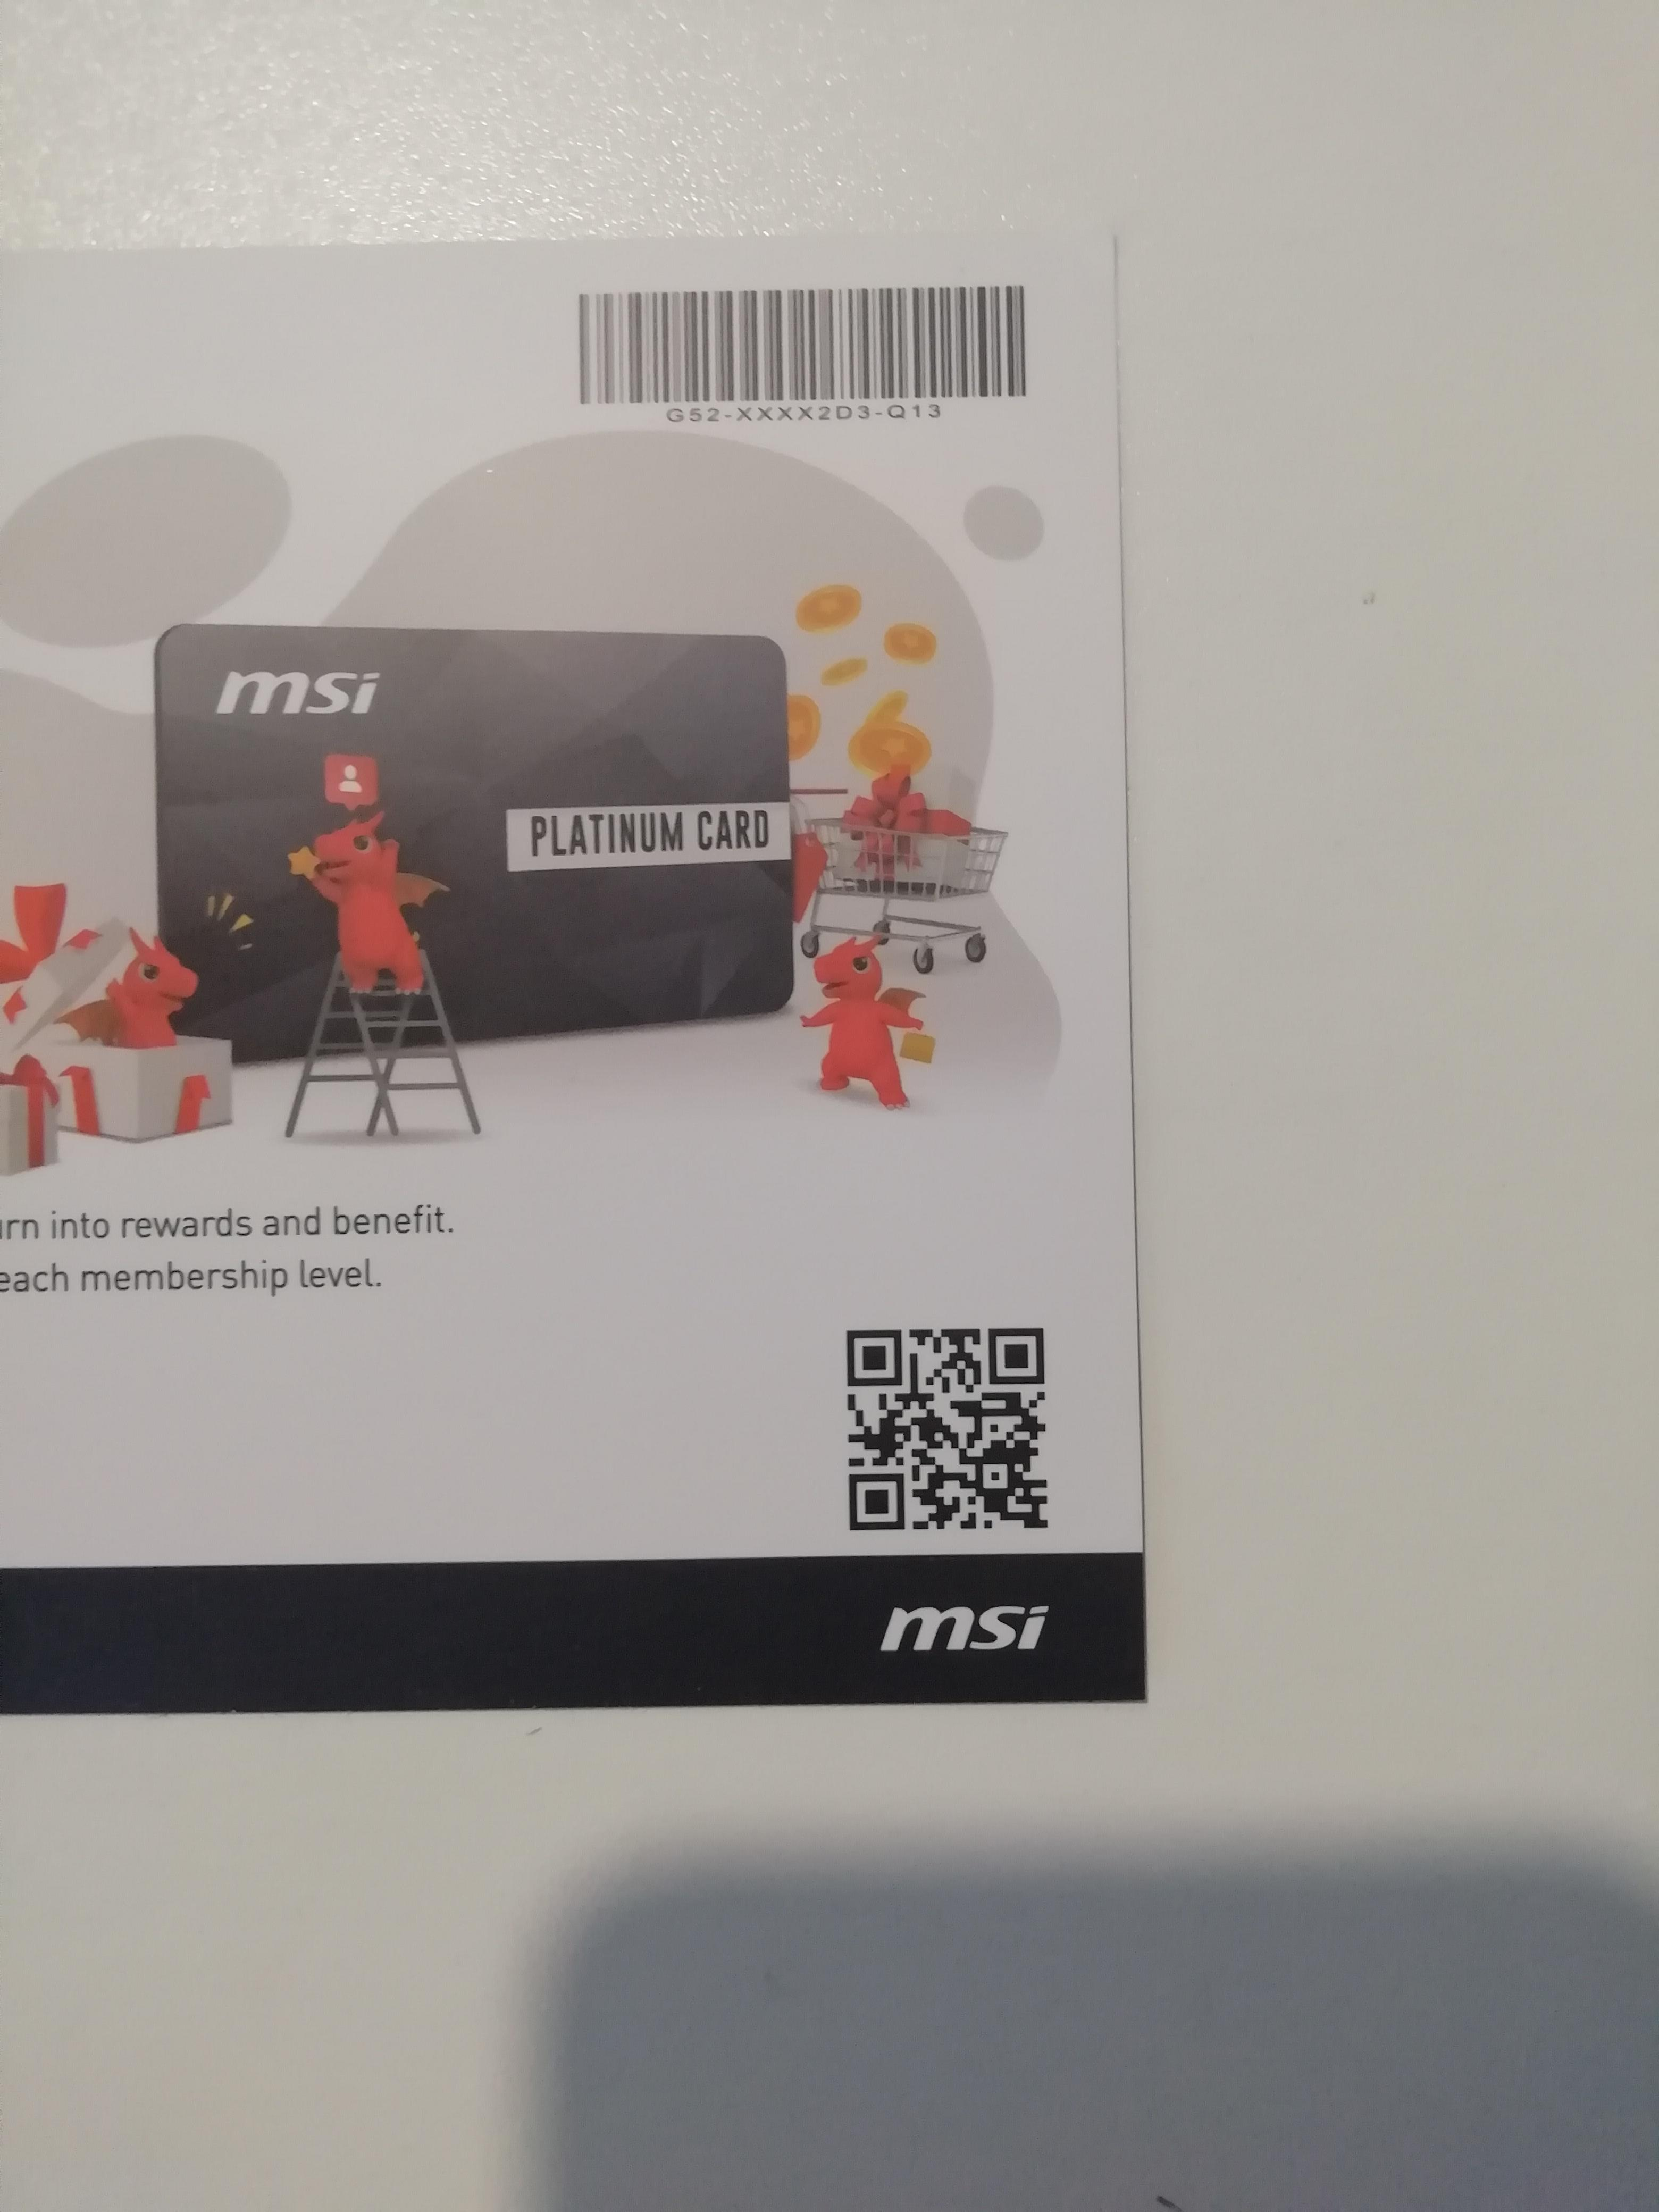qrcode: (847, 1327, 1047, 1533)
